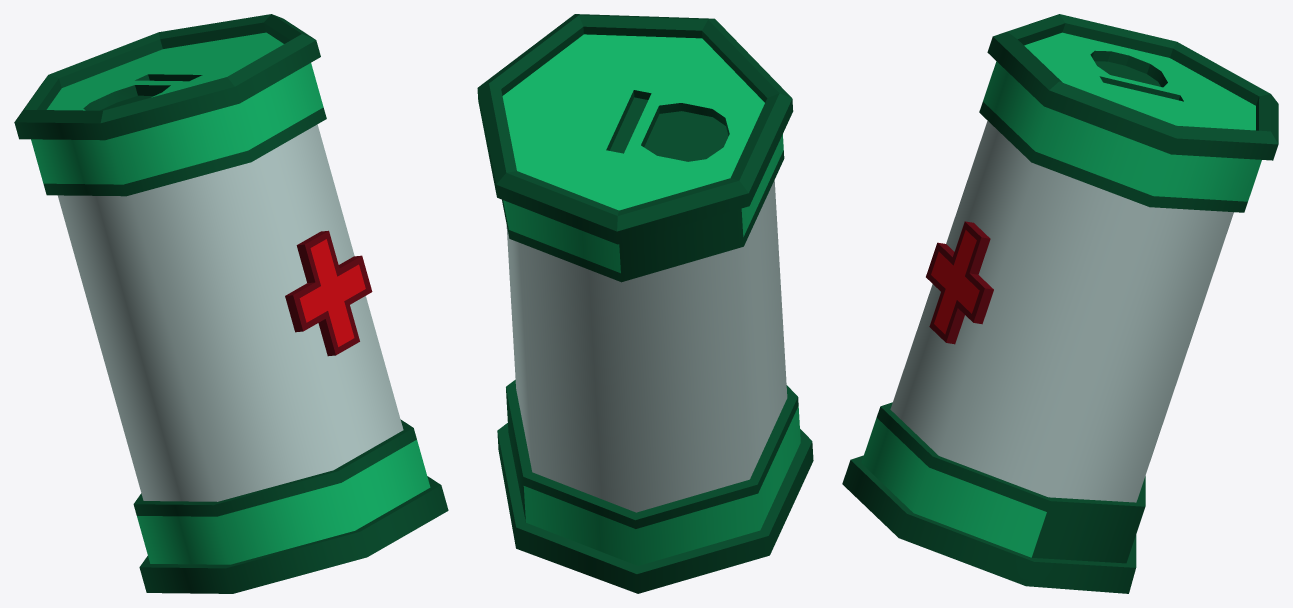
File: Health.fbx
The picture shows the model from 3 angles, left to right: view 1: azimuth 30°, elevation 25°; view 2: azimuth 150°, elevation 25°; view 3: azimuth 270°, elevation 25°; orthographic projection. The views are drawn at different scales.
Parts seen in each view (by area): view 1: Health; view 2: Health; view 3: Health.
Boxes of the visible parts, x1,y1,x2,y2 form: Health: (14, 14, 448, 593); Health: (477, 14, 813, 593); Health: (842, 14, 1278, 593).
Size of the model in its own units: 7.63 by 11.81 by 9.05.
